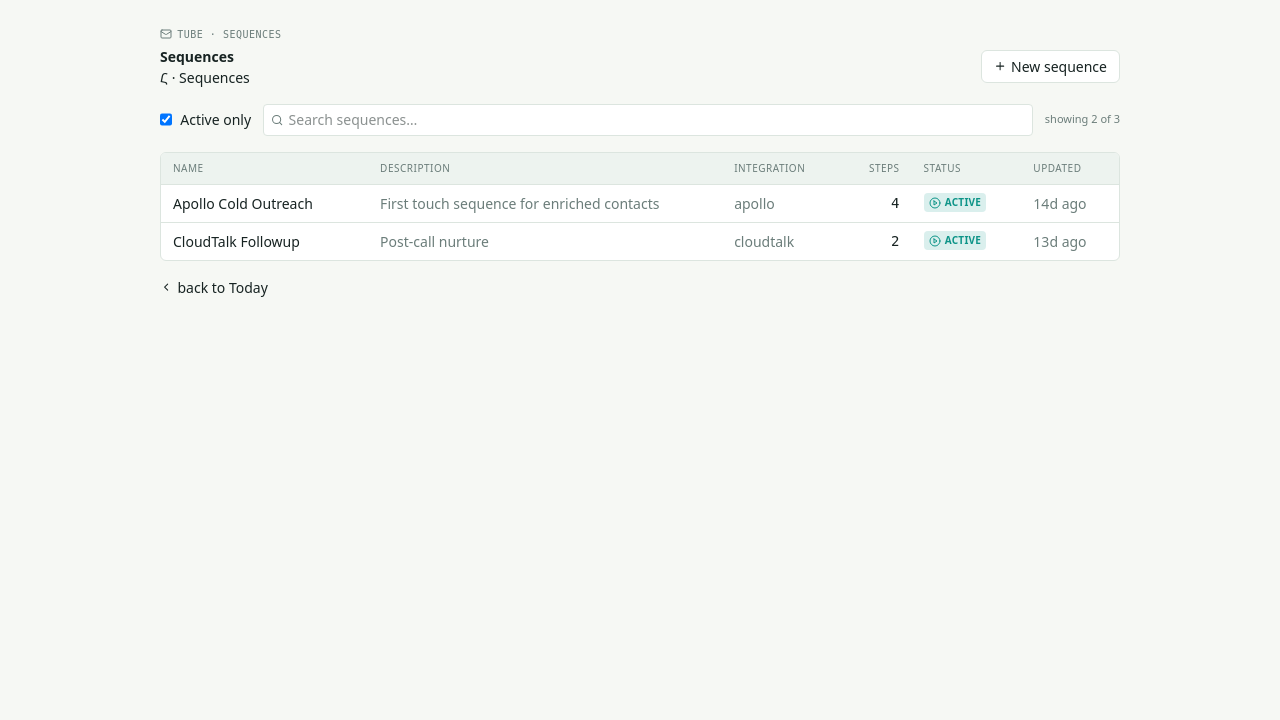
Test case: Sequences list — create form › opens the modal when 'New sequence' is clicked
Click the button "New sequence": [1050, 67] box [981, 50, 1120, 83]
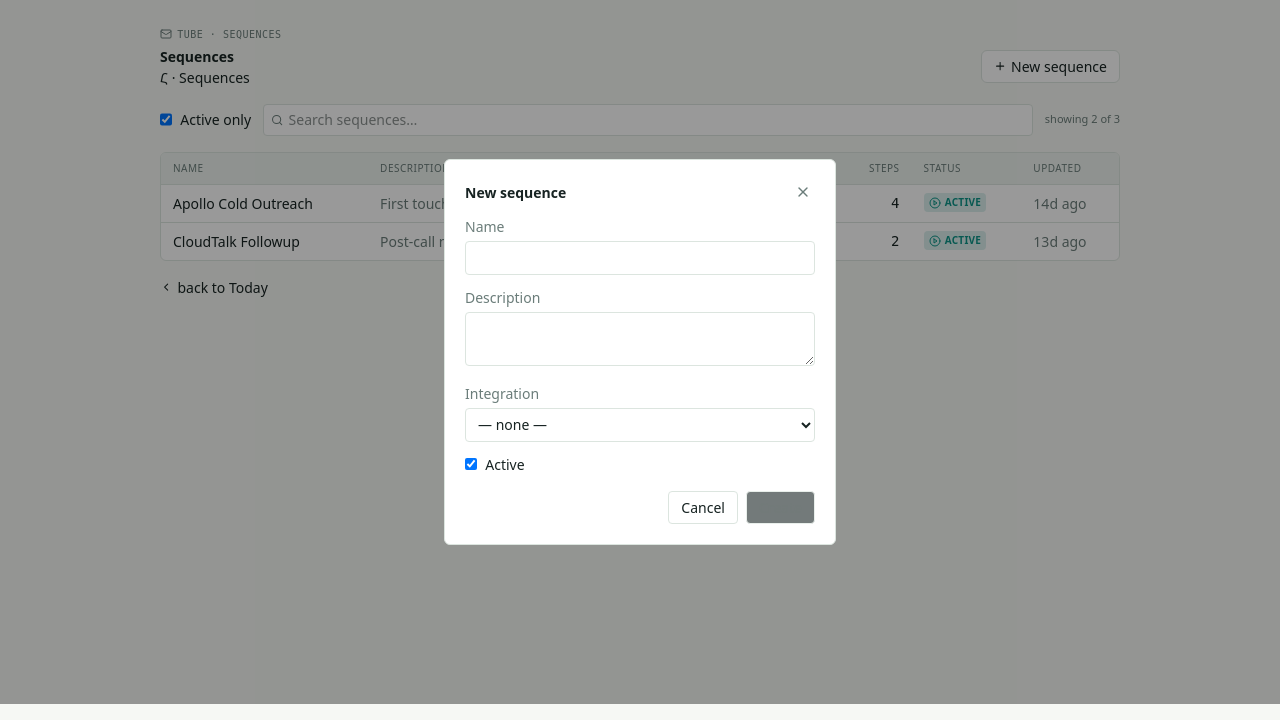
Result: the dialog "New sequence" is shown
